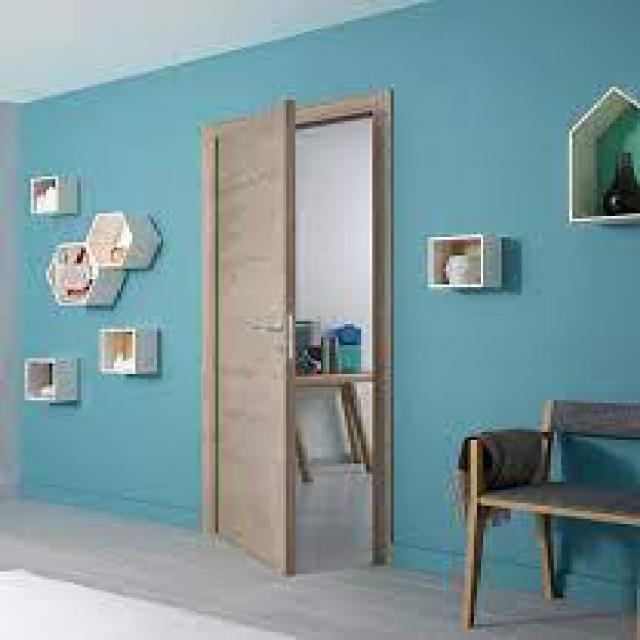semi-open: (194, 84, 406, 596)
